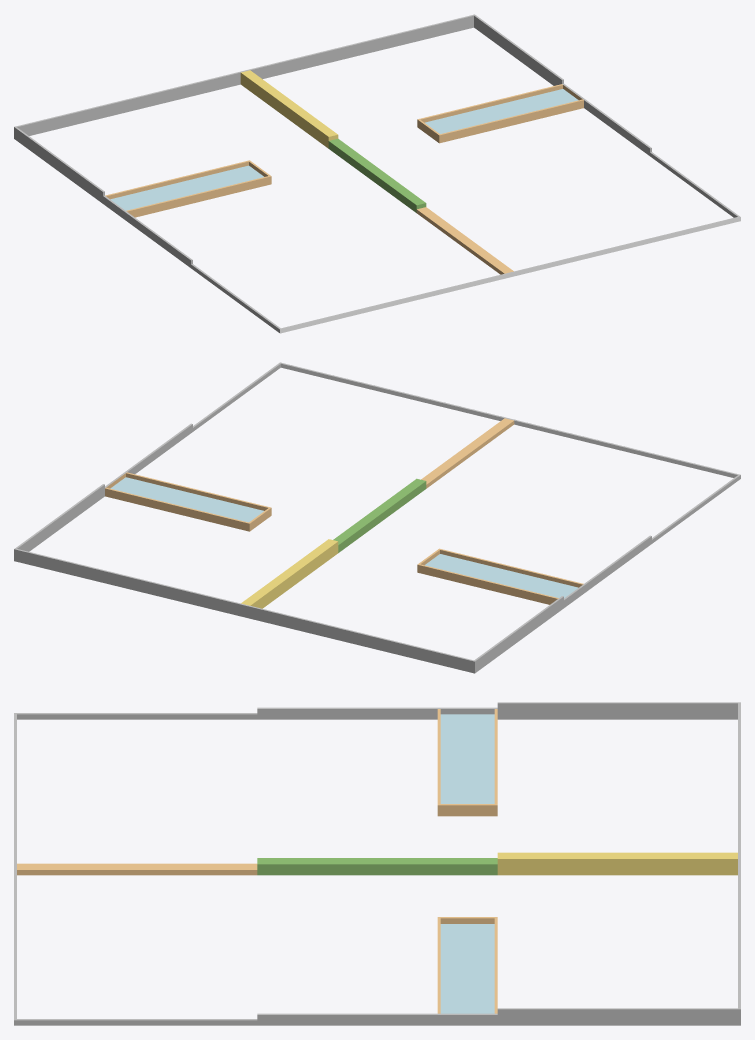
The model's file is wall.dae.
3 renders of one model, top to bottom at view 1: azimuth 30°, elevation 25°; view 2: azimuth 150°, elevation 25°; view 3: azimuth 270°, elevation 25°, orthographic. The views are drawn at different scales.
Parts seen in each view (by area): view 1: instance_0, instance_0.008, instance_0.003, instance_0.006, instance_0.010, instance_0.004, instance_0.007, instance_0.002, instance_0.001; view 2: instance_0, instance_0.008, instance_0.003, instance_0.010, instance_0.006, instance_0.004, instance_0.007, instance_0.002, instance_0.001; view 3: instance_0, instance_0.007, instance_0.006, instance_0.010, instance_0.002, instance_0.001, instance_0.003, instance_0.008.
Part boxes in pixels (x1,y1,x2,y2): instance_0: (14,14,740,332); instance_0.008: (417,84,583,143); instance_0.003: (105,160,271,217); instance_0.006: (110,165,263,210); instance_0.010: (425,89,578,133); instance_0.004: (280,217,740,333); instance_0.007: (240,70,338,148); instance_0.002: (328,138,426,212); instance_0.001: (416,207,513,274); instance_0: (14,362,740,673); instance_0.008: (105,472,271,531); instance_0.003: (417,548,583,604); instance_0.010: (110,477,263,522); instance_0.006: (425,554,578,598); instance_0.004: (281,363,737,477); instance_0.007: (241,539,338,608); instance_0.002: (333,478,426,552); instance_0.001: (421,418,514,488); instance_0: (14,702,740,1025); instance_0.007: (497,852,737,875); instance_0.006: (440,714,494,803); instance_0.010: (440,924,494,1013); instance_0.002: (257,858,497,875); instance_0.001: (17,863,257,875); instance_0.003: (437,709,497,816); instance_0.008: (437,917,497,1013).
Size of the model in its own units: 12.1 by 12.1 by 0.3.
